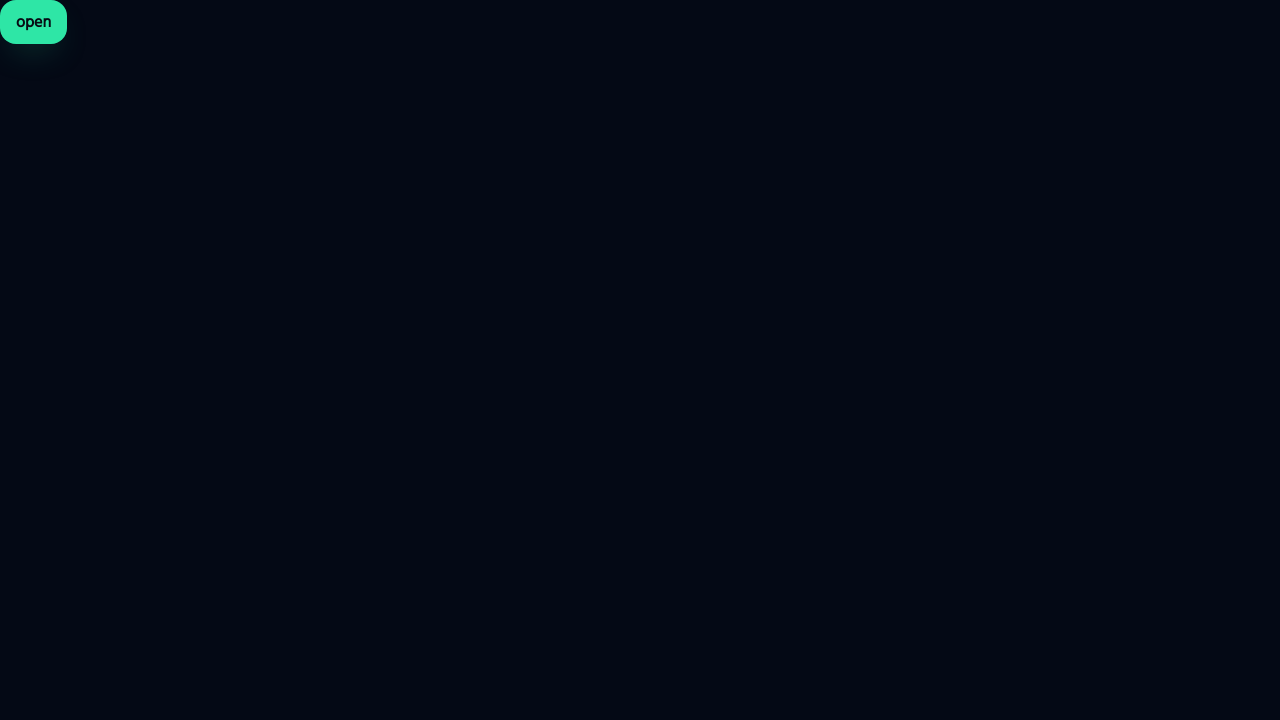
it: WhySheet › FR-70 still shows what the result knows when the trace cannot be fetched
Click the button "open": (34, 22) [0,0,67,44]
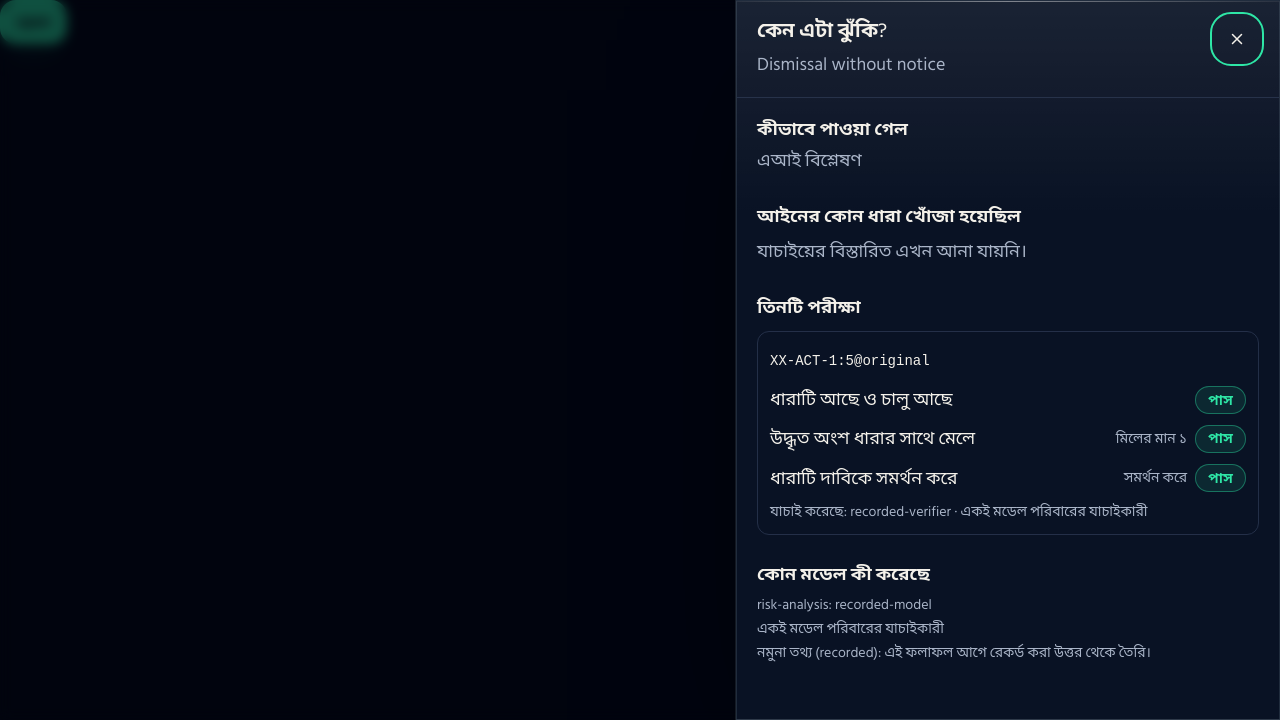
Expected: the text "যাচাইয়ের বিস্তারিত এখন আনা যায়নি।" is shown, [757,237,1027,266]
Expected: the text "পাস" is shown 3 times, [1195,386,1246,414]; [1195,425,1246,453]; [1195,464,1246,492]
